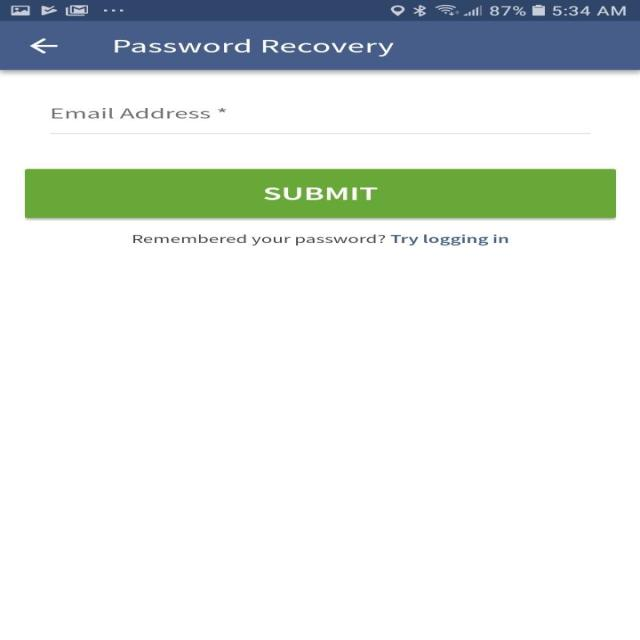EditText: (49, 108, 591, 134)
Icon: (29, 38, 58, 54)
Text: (114, 39, 394, 57), (132, 234, 508, 246), (52, 108, 225, 120)
TextButton: (25, 168, 615, 218)
